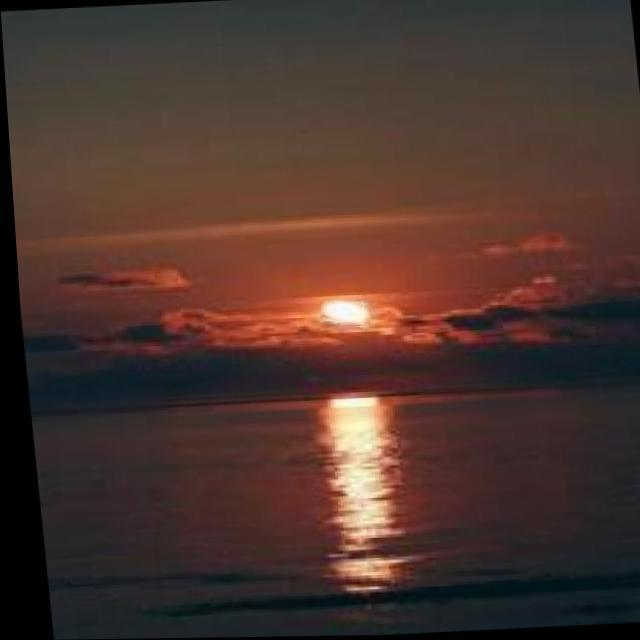sun: (318, 301, 365, 327)
